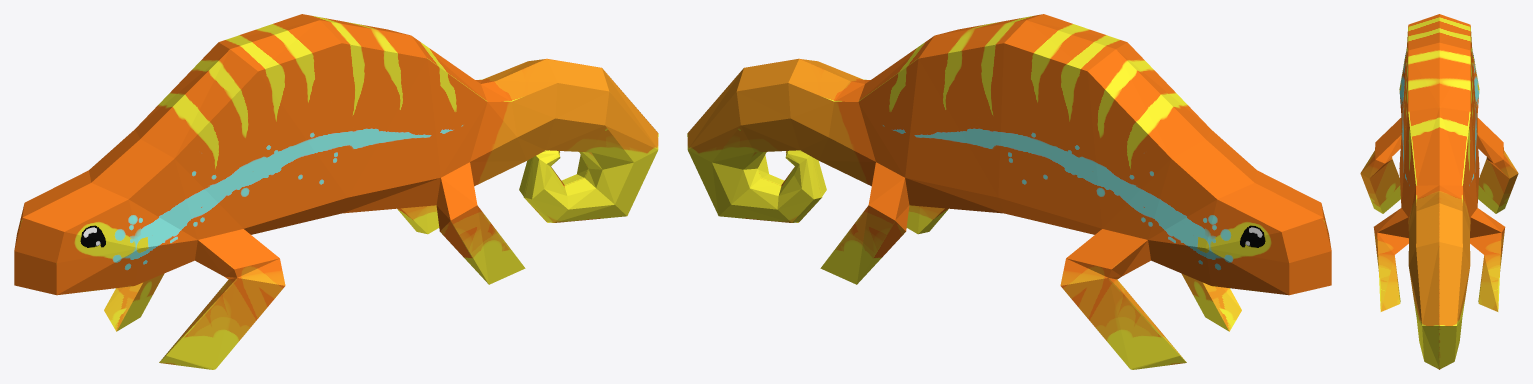
File: low_poly_orange_panther_chameleon.glb
3 views of the same model, side by side, from view 1: azimuth 30°, elevation 25°; view 2: azimuth 150°, elevation 25°; view 3: azimuth 270°, elevation 25° (orthographic). The views are drawn at different scales.
Visible parts, largest first — view 1: orange-material; view 2: orange-material; view 3: orange-material.
Part boxes in pixels (bbox=[...]): orange-material: bbox=[14, 14, 658, 369]; orange-material: bbox=[687, 14, 1331, 369]; orange-material: bbox=[1360, 14, 1518, 369].
Size of the model in its own units: 42.95 by 18.39 by 11.66.
Materials: 1 (1 with a texture image).
